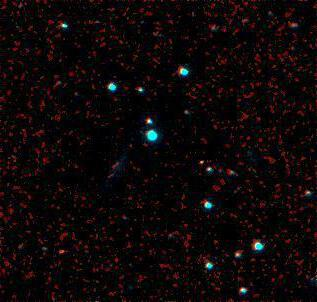star: (46, 240, 76, 270)
